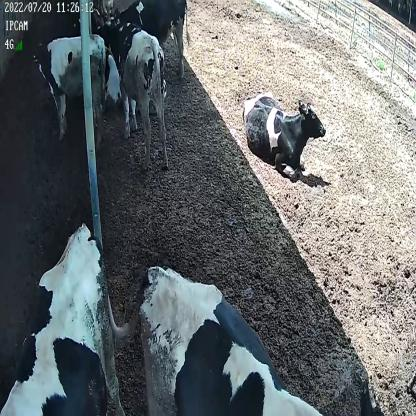cow: (136, 262, 386, 416), (108, 24, 170, 174), (32, 31, 109, 143), (239, 88, 328, 180), (109, 0, 190, 83)
